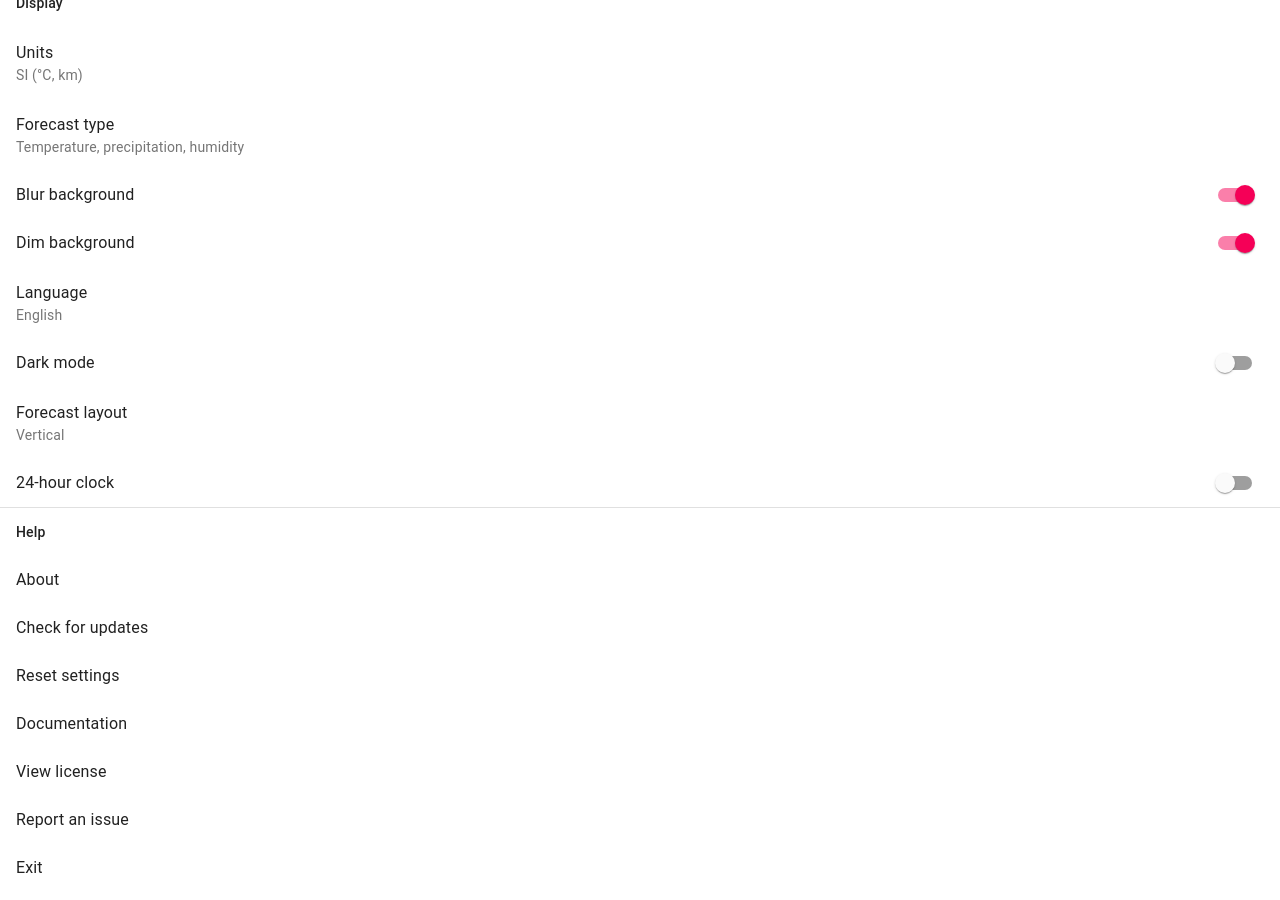
Test: <Settings /> › shows a confirmation dialog when "Reset settings" action is clicked
The width and height of the screenshot is (1280, 900).
(page scrolled)
Click the list item "Reset settings". click: click(68, 676)
box: [16,666,120,685]
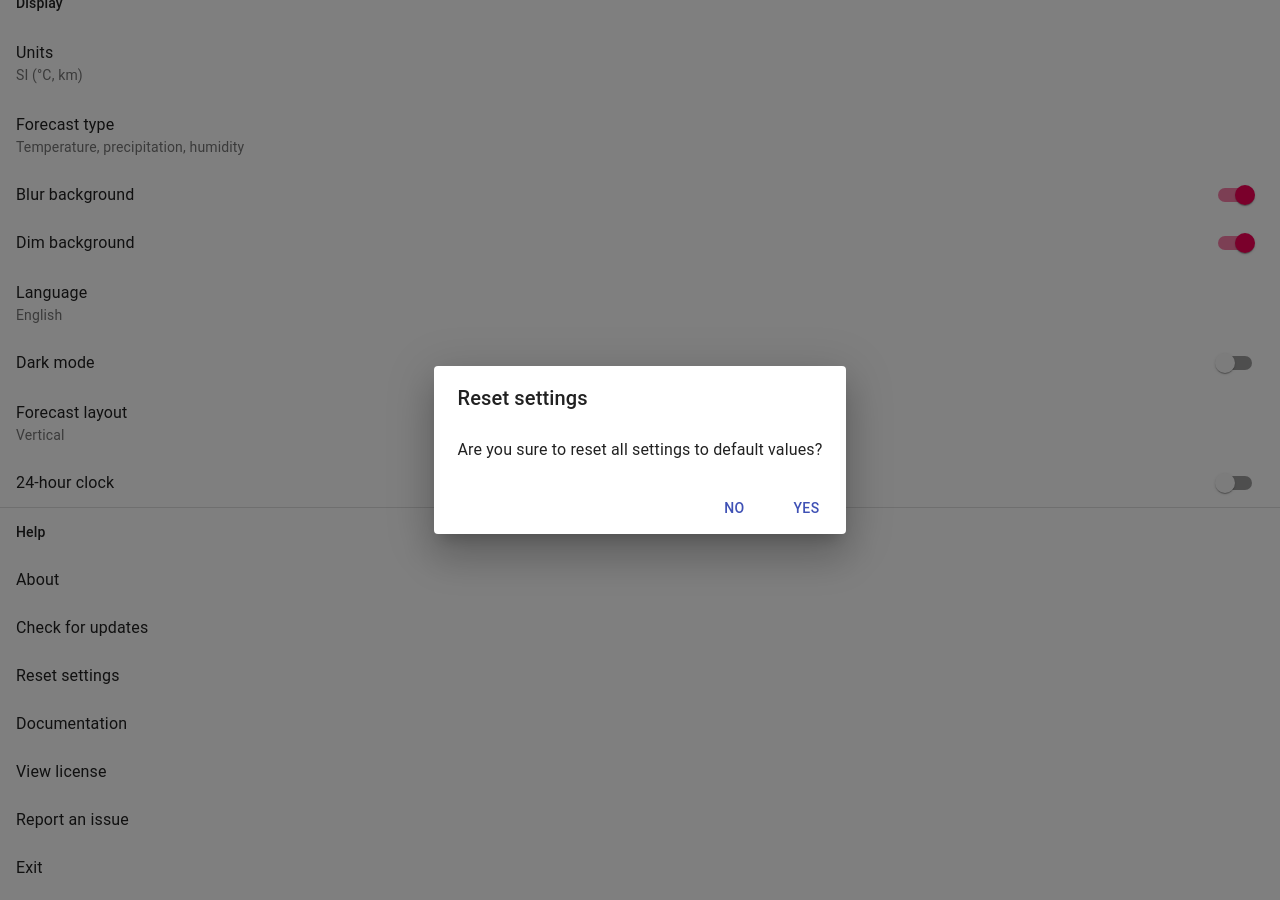
Expected: the dialog is shown
